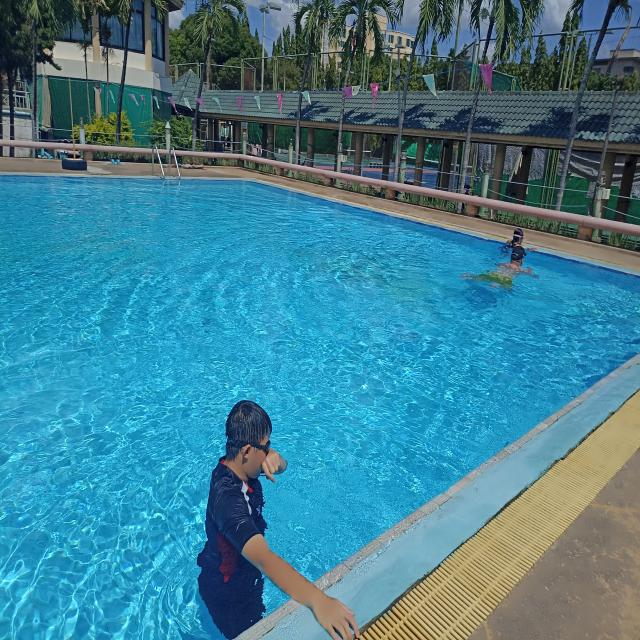Swimming: (464, 253, 540, 291), (503, 226, 537, 252)
